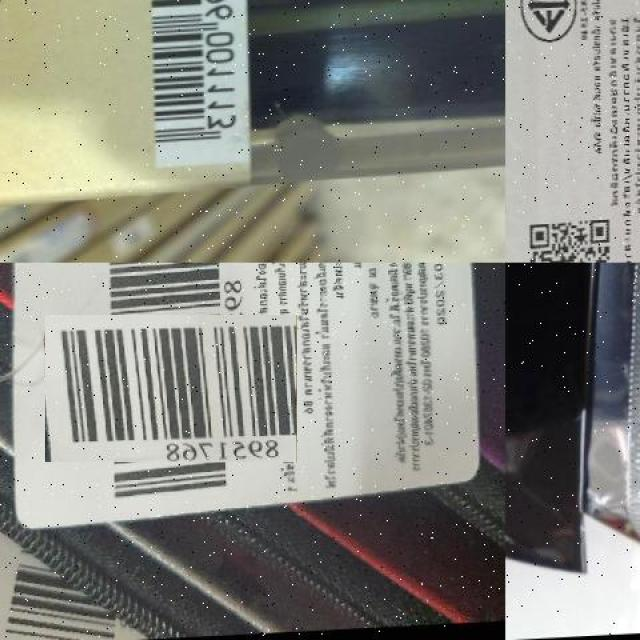Barcode: (71, 288, 272, 488), (146, 0, 246, 175)
